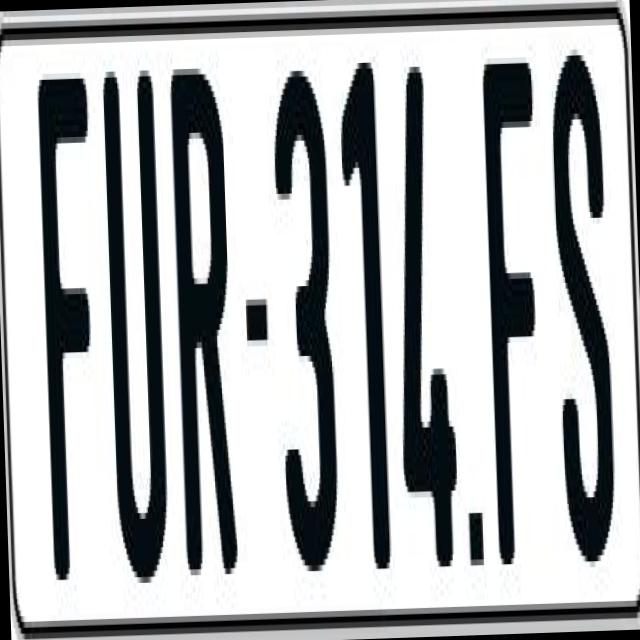1: (336, 44, 392, 586)
3: (270, 52, 342, 572)
4: (385, 59, 463, 562)
F: (36, 77, 104, 608), (480, 51, 547, 576)
R: (167, 68, 236, 610)
S: (546, 54, 618, 580)
U: (100, 70, 170, 618)
